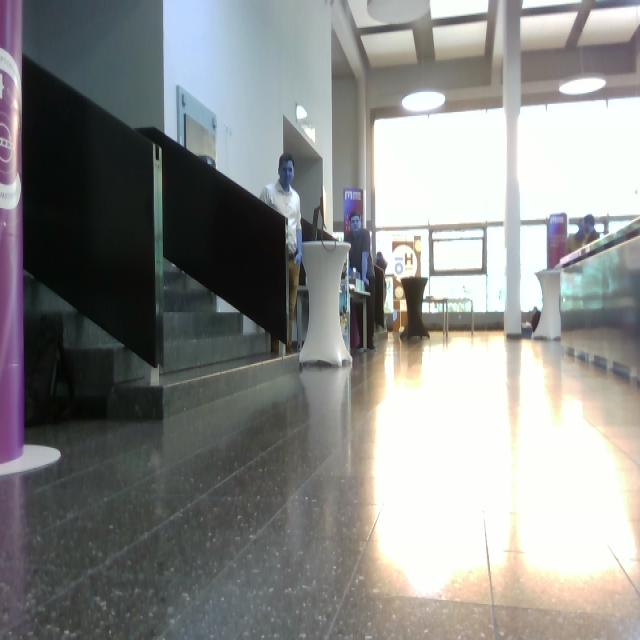door: (138, 125, 279, 374)
light bulb: (1, 1, 61, 477), (401, 33, 446, 113), (559, 46, 607, 96), (367, 1, 431, 25), (559, 74, 607, 96), (402, 90, 446, 113), (296, 105, 308, 121)
person: (259, 153, 304, 354), (344, 212, 377, 352)
pillar: (502, 1, 523, 338), (299, 240, 353, 369)
tiled floor: (1, 325, 639, 638)
